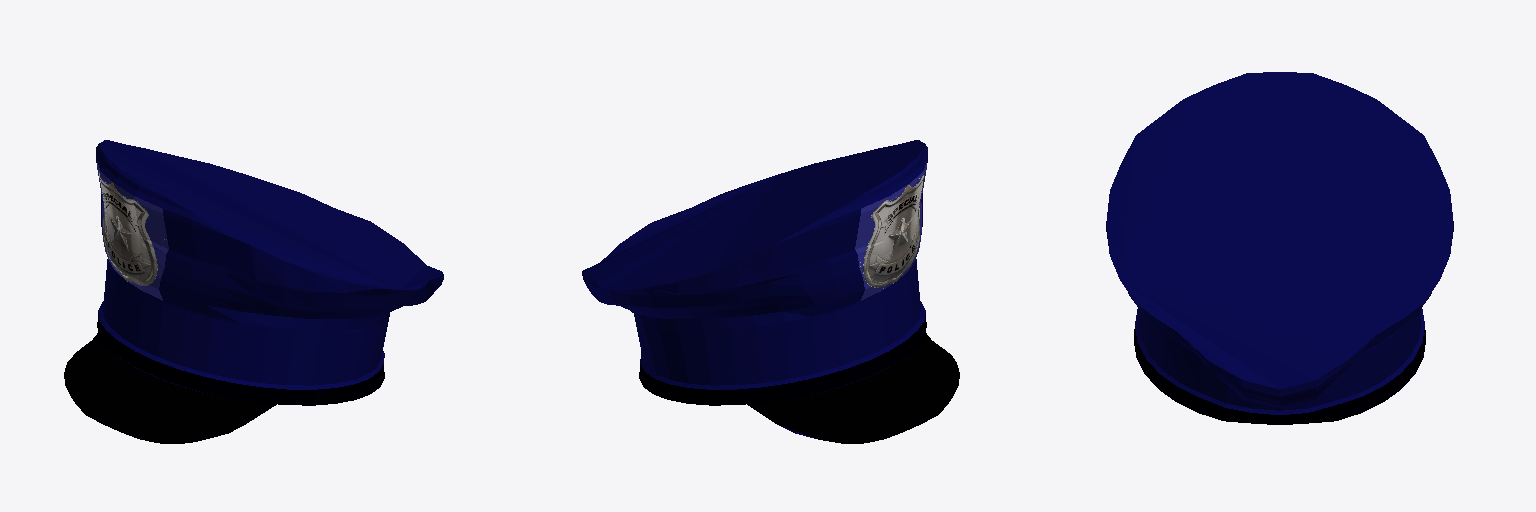
The picture shows the model from 3 angles: view 1: azimuth 30°, elevation 25°; view 2: azimuth 150°, elevation 25°; view 3: azimuth 270°, elevation 25°; orthographic projection.
Parts seen in each view (by area): view 1: Hat_Circle; view 2: Hat_Circle; view 3: Hat_Circle.
Boxes of the visible parts, box(x1,y1,x2,y2) form: Hat_Circle: box(64, 140, 443, 443); Hat_Circle: box(582, 140, 959, 443); Hat_Circle: box(1106, 72, 1453, 424).
Bounding box in the file's own units: 4.67 × 3.11 × 4.13.
Materials: 4 (1 with a texture image).